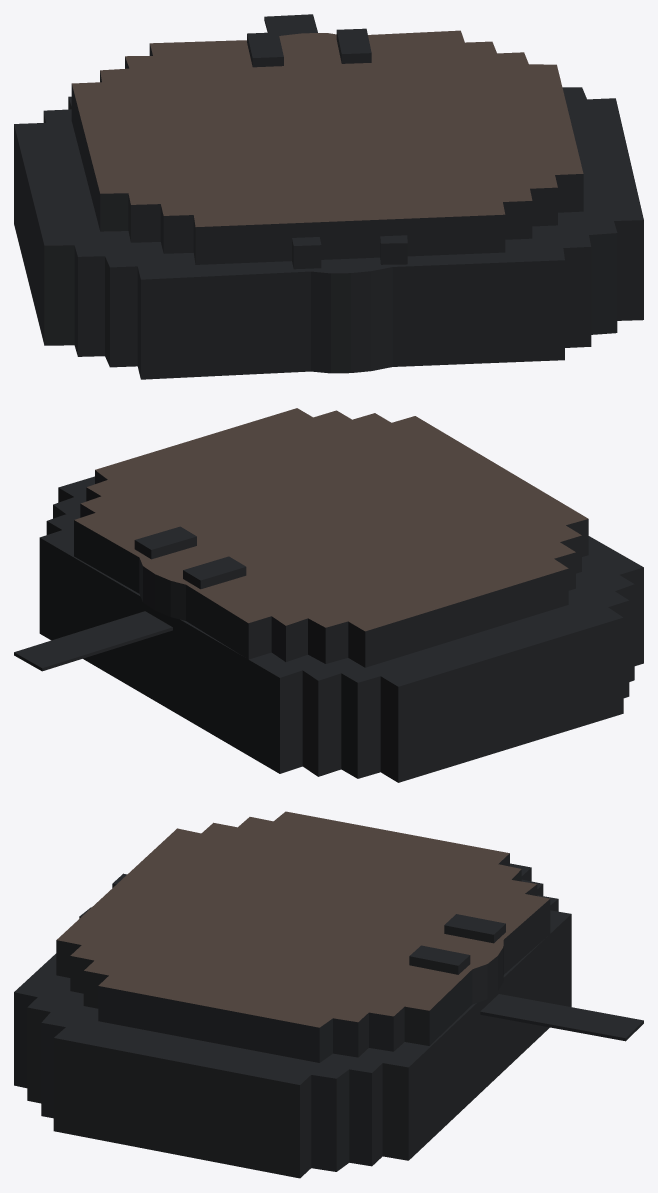
Rendered from tn-govt-office-building-in-chattanooga-tn-usa.glb.
3 renders of one model, top to bottom at view 1: azimuth 30°, elevation 25°; view 2: azimuth 150°, elevation 25°; view 3: azimuth 270°, elevation 25°, orthographic. The views are drawn at different scales.
Visible parts, largest first — view 1: LOD0; view 2: LOD0; view 3: LOD0.
Part boxes in pixels (x1,y1,x2,y2): LOD0: (14,14,643,379); LOD0: (14,408,643,782); LOD0: (14,811,643,1178).
Size of what is drawn, in the model's own units: 73.16 by 17.8 by 73.76.
1 material, 1 textured.
